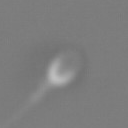normal: (1, 78, 51, 128)
